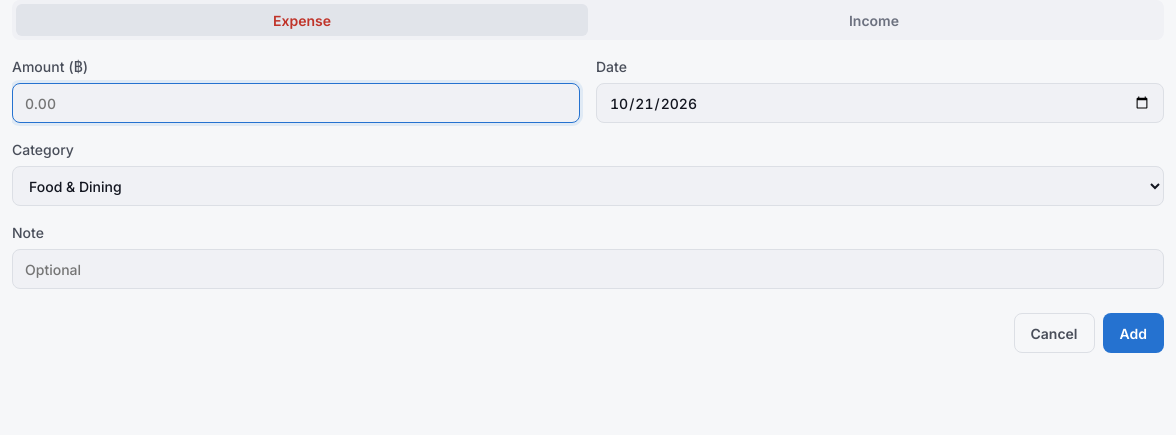
Scenario: TransactionForm › blocks invalid amounts and shows an error
Step 1. Type "-3" into the field labelled "Amount (฿)" → point(296, 103), box x1=12 y1=83 x2=580 y2=123
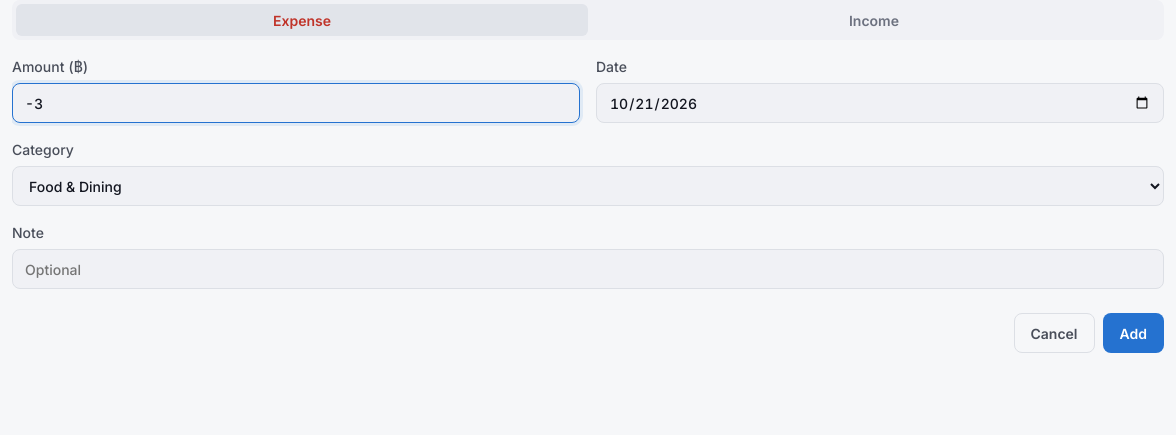
Step 2. Click the button "Add" → point(1133, 333), box x1=1102 y1=313 x2=1164 y2=353
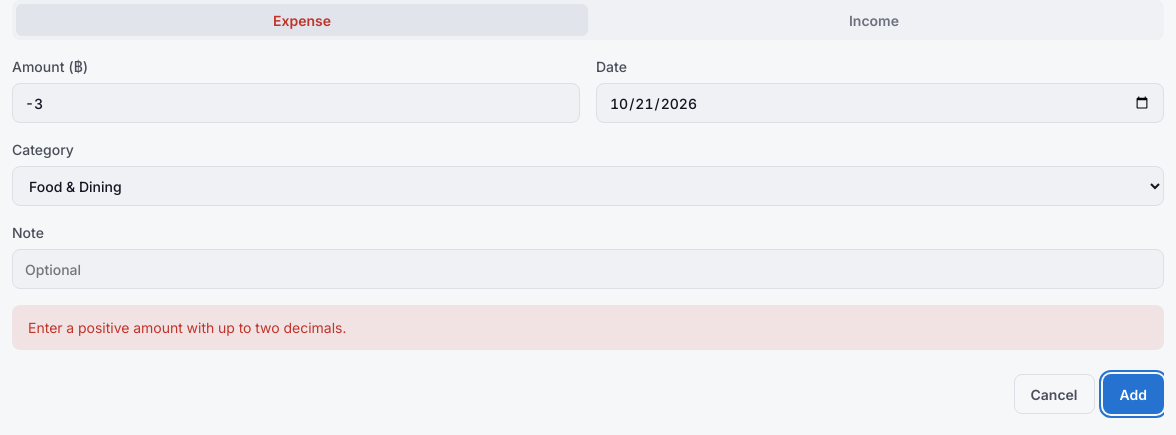
Expected: the message shows "positive amount", x1=28 y1=319 x2=346 y2=336
